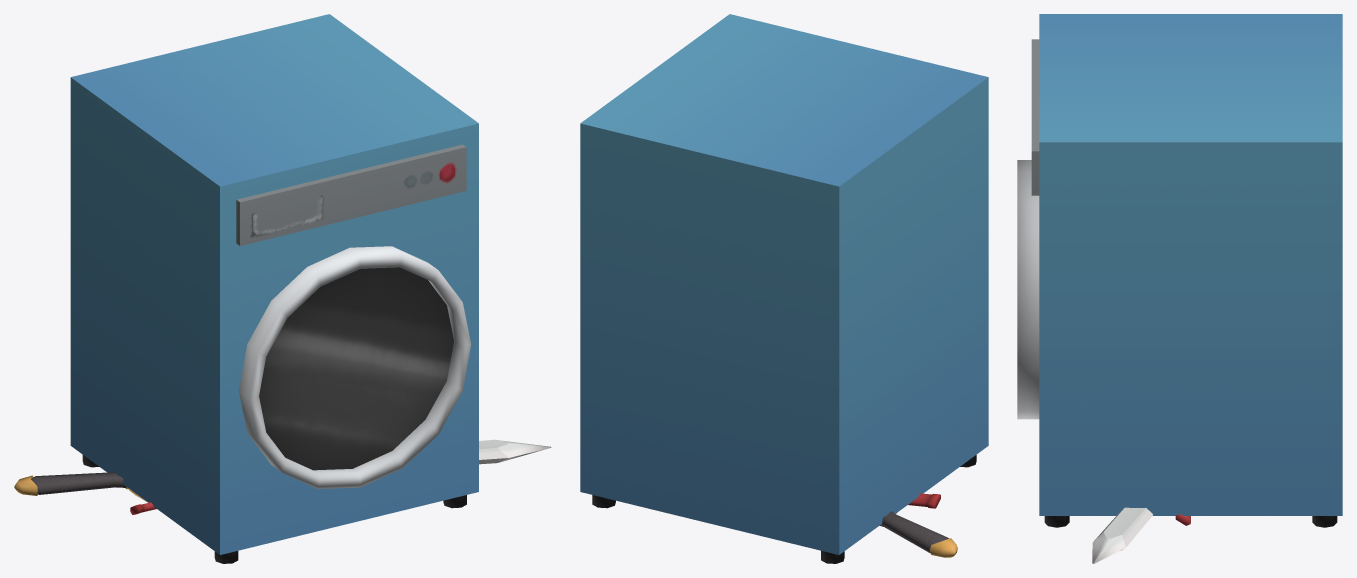
The model's file is treasure_0607.fbx.
3 renders of one model, left to right at view 1: azimuth 30°, elevation 25°; view 2: azimuth 150°, elevation 25°; view 3: azimuth 270°, elevation 25°, orthographic.
Parts seen in each view (by area): view 1: C_Broken_Washing_Machine, L_Excalibur; view 2: C_Broken_Washing_Machine, L_Excalibur; view 3: C_Broken_Washing_Machine, L_Excalibur.
Boxes of the visible parts, x1,y1,x2,y2 form: C_Broken_Washing_Machine: [70, 14, 478, 563]; L_Excalibur: [14, 439, 551, 502]; C_Broken_Washing_Machine: [580, 14, 988, 563]; L_Excalibur: [879, 511, 957, 557]; C_Broken_Washing_Machine: [1017, 14, 1342, 527]; L_Excalibur: [1092, 507, 1152, 563].
Bounding box in the file's own units: 1.36 × 1.24 × 0.8474.
4 materials, 4 textured.
